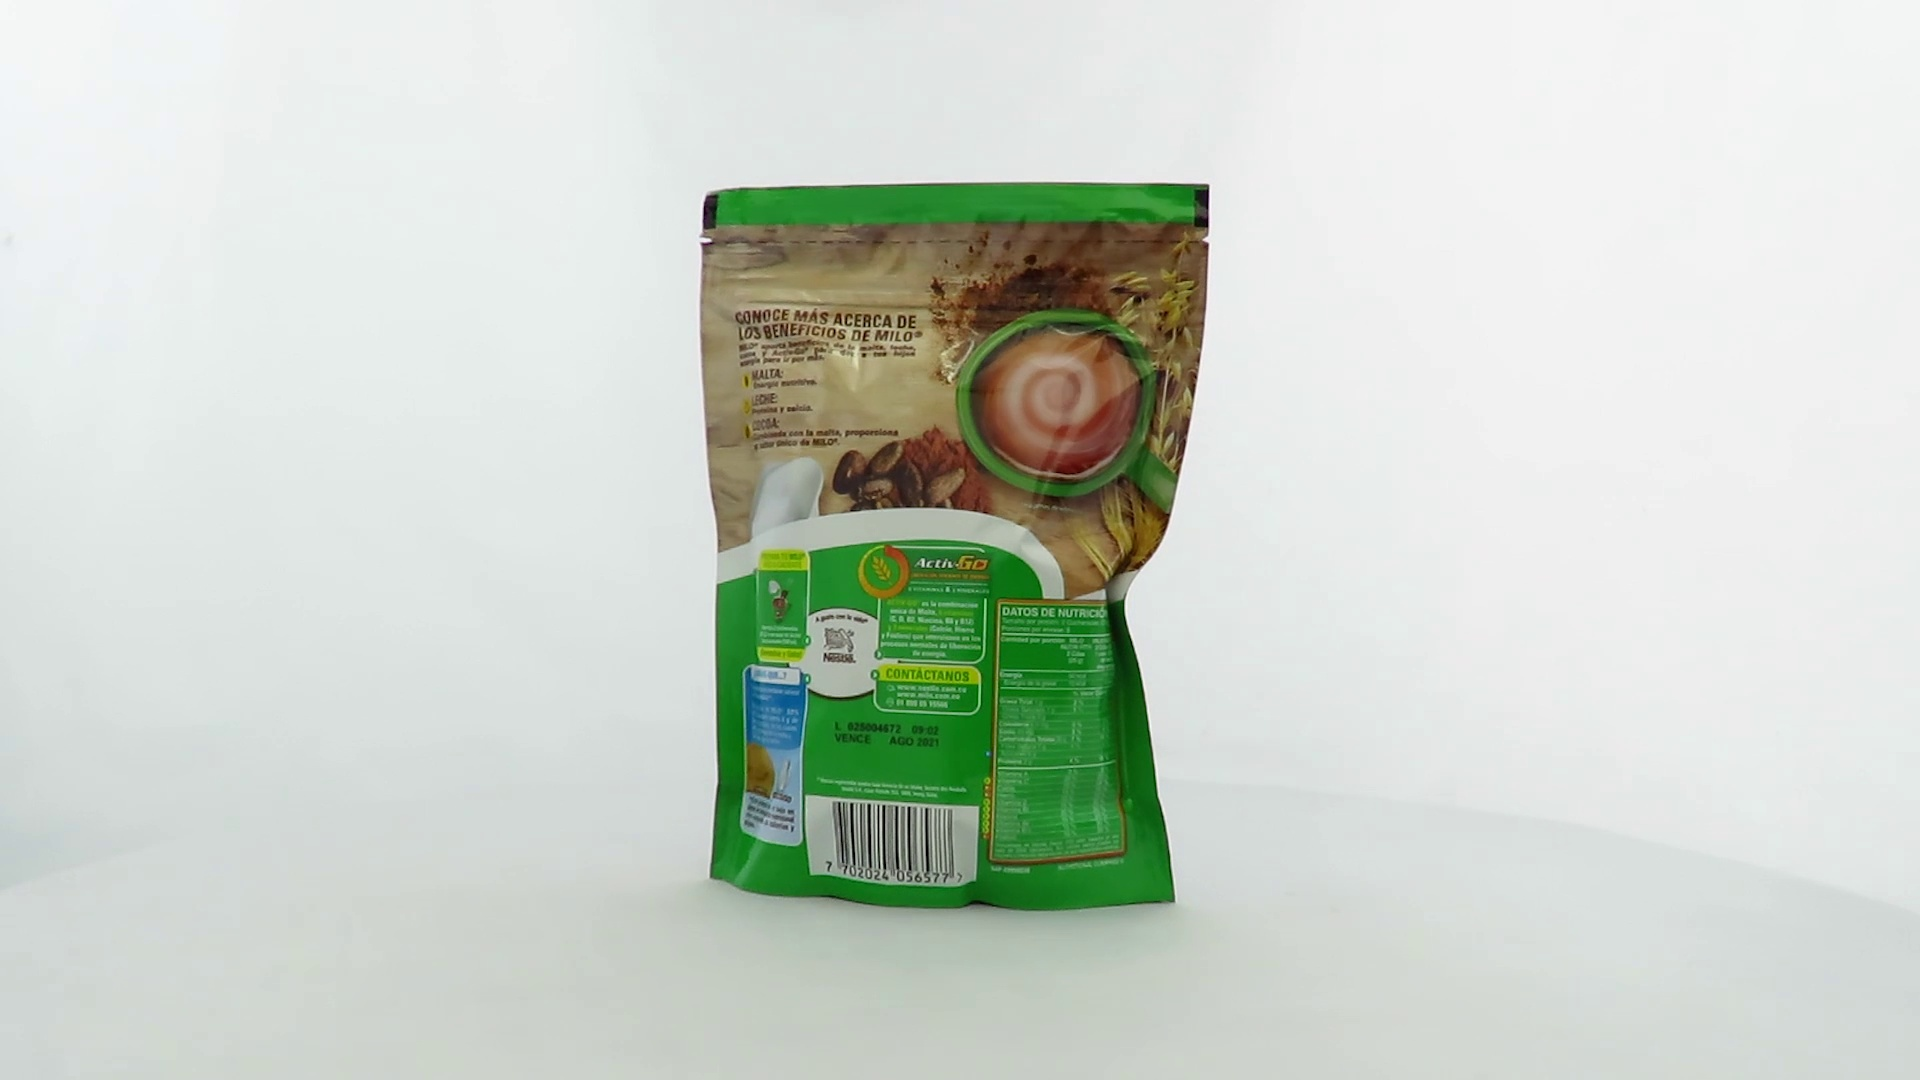COL0170205DYP20000: (694, 177, 1216, 918)
